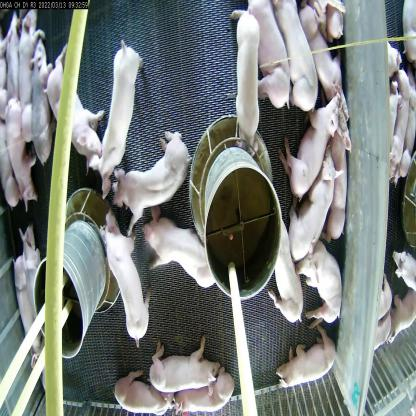Pig: (107, 126, 195, 236), (88, 34, 144, 201), (41, 40, 106, 176), (97, 204, 157, 350), (274, 88, 344, 203), (142, 202, 218, 298), (286, 139, 344, 264), (244, 0, 293, 118), (270, 0, 320, 114), (230, 8, 266, 153), (273, 315, 339, 390), (300, 0, 349, 100), (148, 328, 221, 392), (16, 212, 53, 334), (294, 240, 346, 324), (269, 209, 305, 330), (28, 36, 60, 166), (5, 95, 40, 212), (327, 105, 356, 246), (112, 361, 178, 416), (16, 7, 47, 109), (177, 361, 235, 415), (4, 5, 21, 106), (390, 234, 416, 292)
